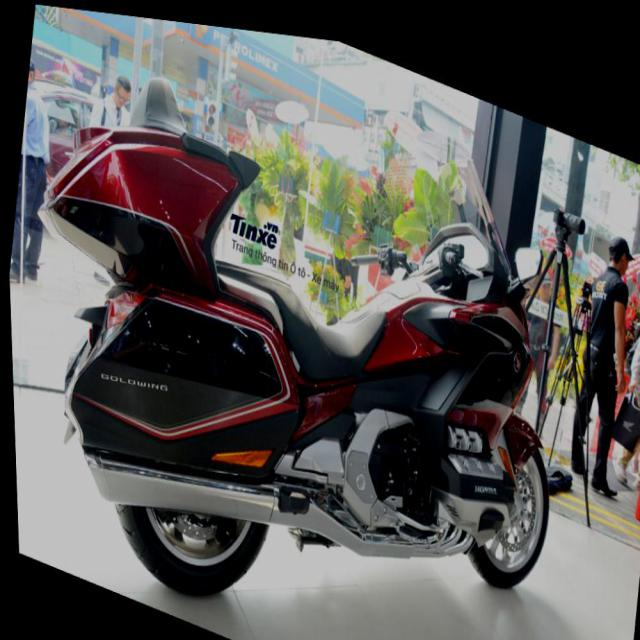Gold Wing: (0, 0, 593, 639)
